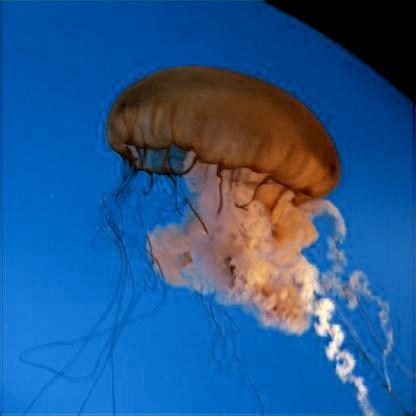Dressed: (103, 66, 393, 412)
